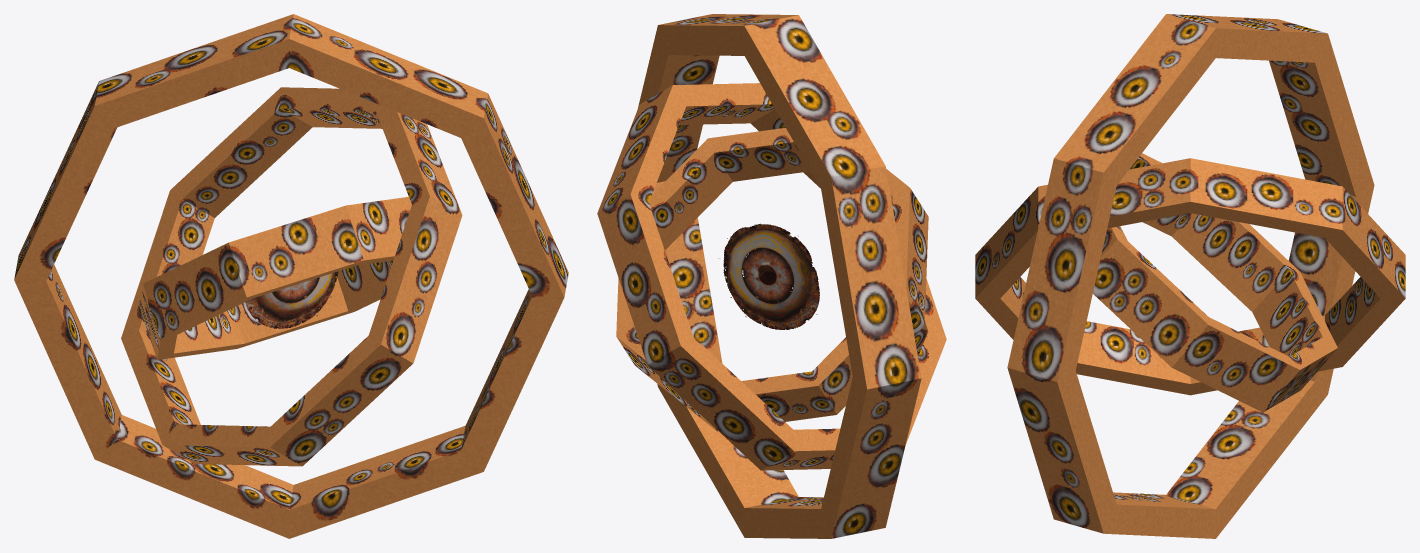
File: ophanim_000006.obj
3 views of the same model, side by side, from view 1: azimuth 30°, elevation 25°; view 2: azimuth 150°, elevation 25°; view 3: azimuth 270°, elevation 25° (orthographic). The views are drawn at different scales.
Visible parts, largest first — view 1: Ring3, Ring2, Ring1, Eye; view 2: Ring3, Ring2, Ring1, Eye; view 3: Ring3, Ring2, Ring1.
Part boxes in pixels (x1,y1,x2,y2): Ring3: (14,14,568,538); Ring2: (121,87,462,466); Ring1: (139,196,411,359); Eye: (245,271,338,328); Ring3: (638,14,921,538); Ring2: (597,83,946,470); Ring1: (616,128,928,431); Eye: (718,223,819,329); Ring3: (1007,14,1374,538); Ring2: (975,158,1405,395); Ring1: (1093,153,1337,412).
Bounding box in the file's own units: 0.3075 × 0.3468 × 0.265.
2 materials, 2 textured.
